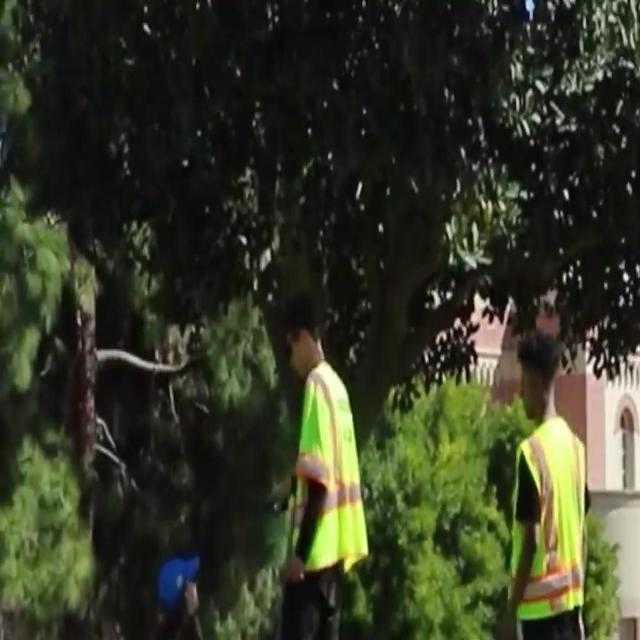Reflective-Jacket: (275, 355, 379, 601), (502, 408, 600, 628)
